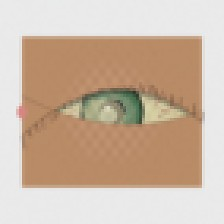corneal_ulcer: (72, 90, 137, 142)
